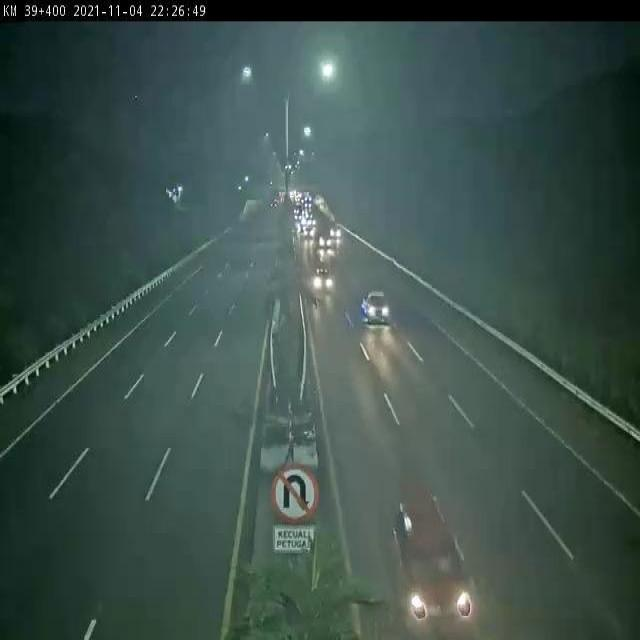car: (381, 476, 491, 640), (303, 254, 348, 318)
truck-s-: (359, 260, 410, 351)
